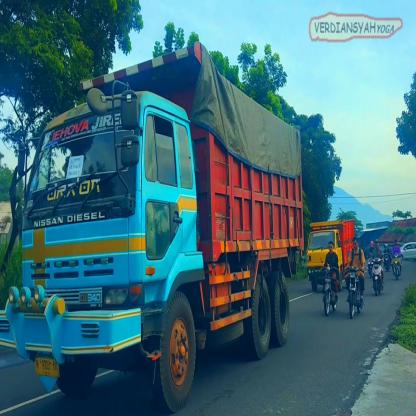truck: (1, 44, 303, 416), (305, 207, 363, 299)
